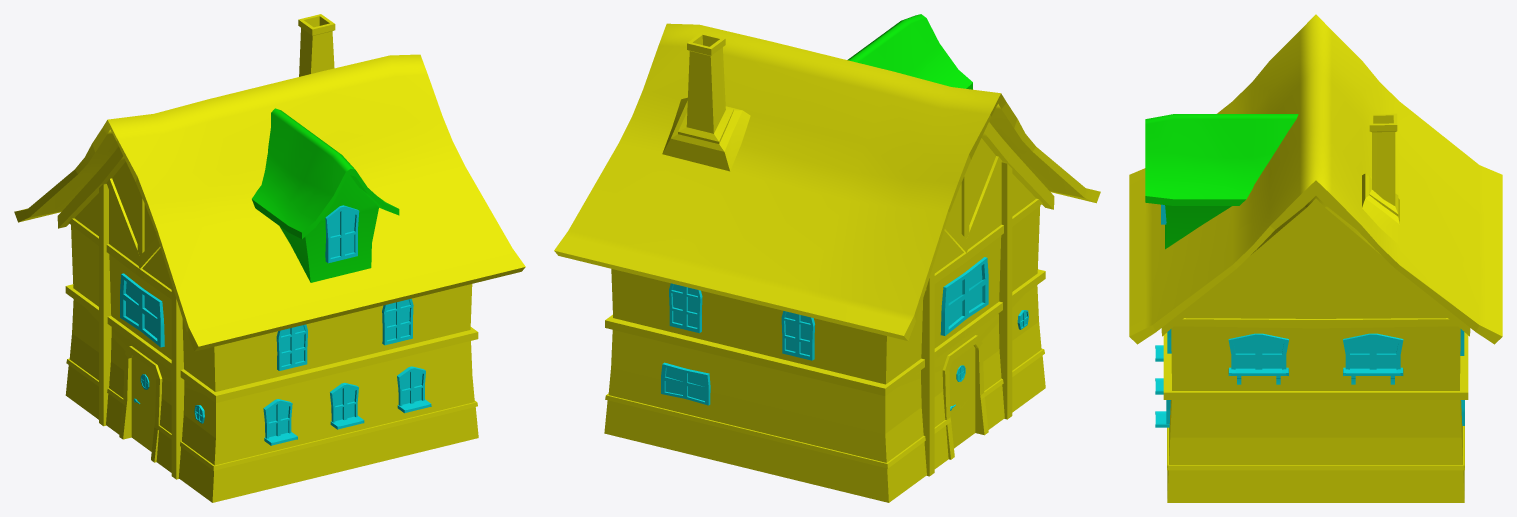
File: House_3.fbx
3 views of the same model, side by side, from view 1: azimuth 30°, elevation 25°; view 2: azimuth 150°, elevation 25°; view 3: azimuth 270°, elevation 25° (orthographic). The views are drawn at different scales.
Visible parts, largest first — view 1: house3, house_mini1:house_mini, mado_yoko:mado_yoko1; view 2: house3, mado_yoko:mado_yoko1, house_mini1:house_mini; view 3: house3, house_mini1:house_mini, mado_yoko:mado_yoko1.
Part boxes in pixels (x1,y1,x2,y2): house3: (14, 14, 525, 502); house_mini1:house_mini: (252, 108, 399, 282); mado_yoko:mado_yoko1: (120, 205, 431, 445); house3: (554, 23, 1100, 502); mado_yoko:mado_yoko1: (661, 257, 1028, 410); house_mini1:house_mini: (847, 14, 972, 89); house3: (1129, 14, 1502, 502); house_mini1:house_mini: (1145, 114, 1298, 249); mado_yoko:mado_yoko1: (1155, 204, 1464, 427).
Bounding box in the file's own units: 722 × 743 × 705.
